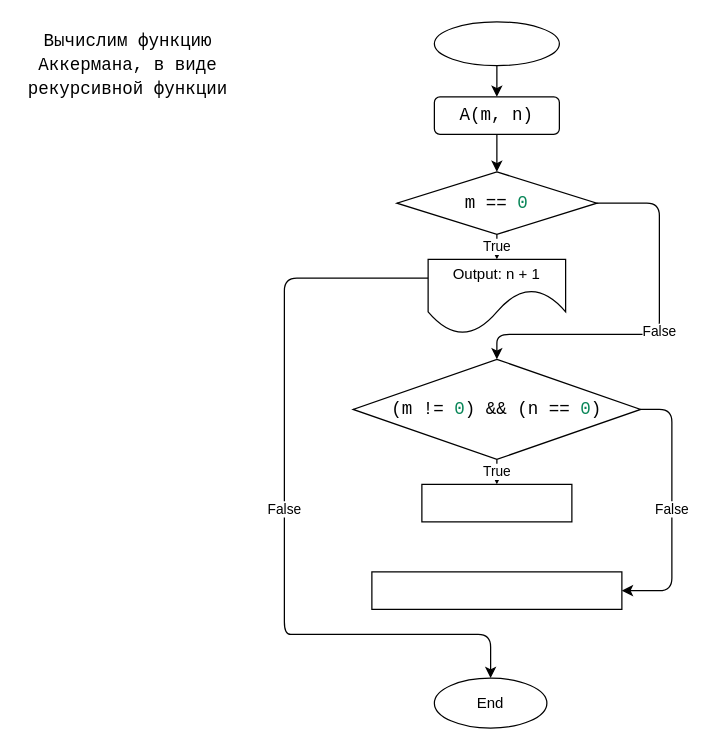
Some shapes in this 710 by 750 pixel diagram are drawn without their labels. The centre of each missing label's shape, as x and y in pixels:
"A(m - 1 , 1 )" belongs at [496,502].
"A(m - 1 , A(m, n - 1 ))" belongs at [496,590].
"Start" belongs at [496,43].
